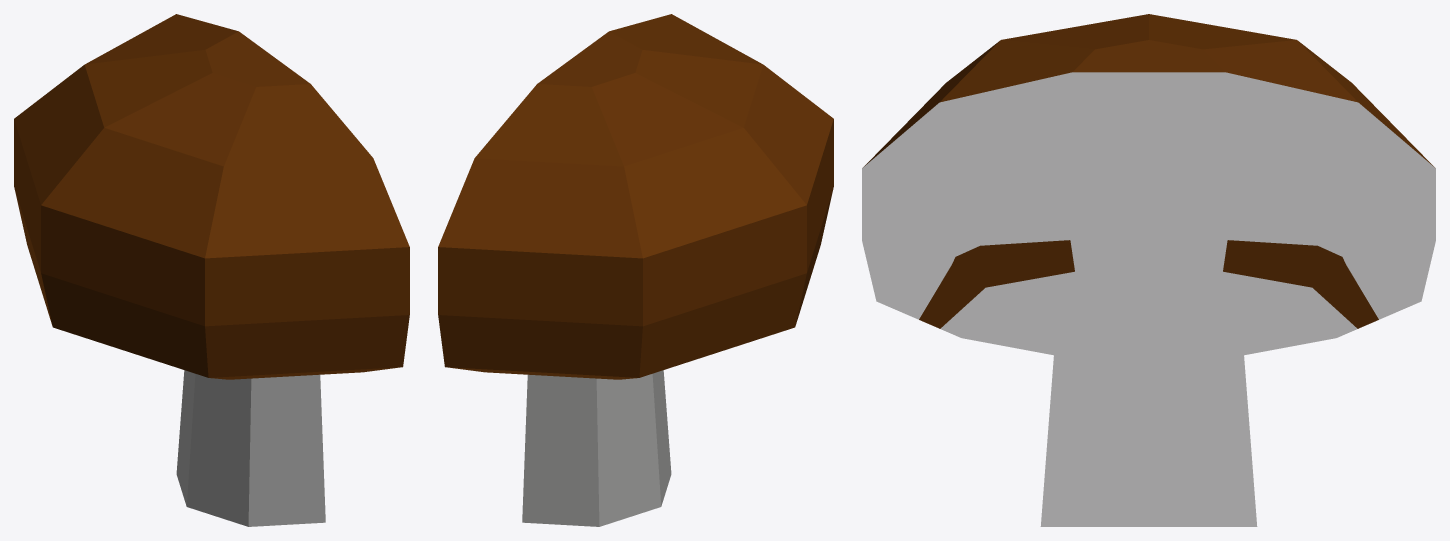
File: mushroom02.obj
3 views of the same model, side by side, from view 1: azimuth 30°, elevation 25°; view 2: azimuth 150°, elevation 25°; view 3: azimuth 270°, elevation 25° (orthographic). The views are drawn at different scales.
Parts seen in each view (by area): view 1: Cylinder; view 2: Cylinder; view 3: Cylinder.
Part boxes in pixels (x1,y1,x2,y2): Cylinder: (14,14,409,526); Cylinder: (438,14,833,526); Cylinder: (862,14,1435,526).
Bounding box in the file's own units: 0.023 × 0.0402 × 0.046.
1 material, 1 textured.
